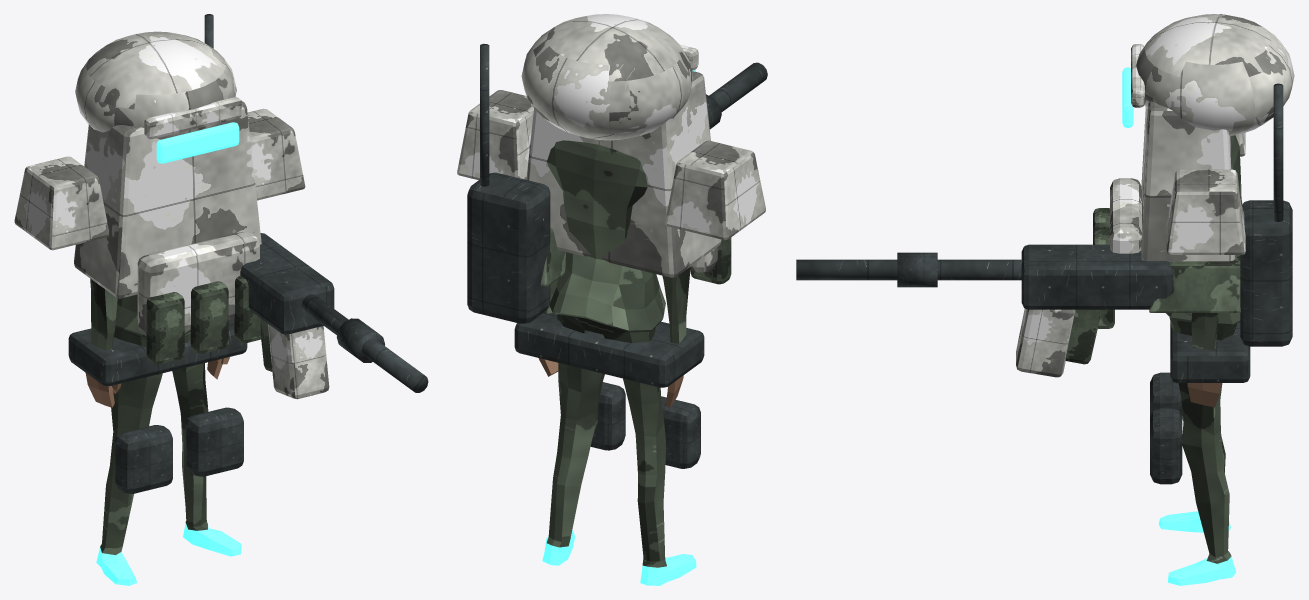
Rendered from soldier.glb.
3 views of the same model, side by side, from view 1: azimuth 30°, elevation 25°; view 2: azimuth 150°, elevation 25°; view 3: azimuth 270°, elevation 25° (orthographic). The views are drawn at different scales.
Visible parts, largest first — view 1: soldier_team_primary, soldier_armor_dark, BaseHuman_baked, soldier_team_accent, soldier_fabric_dark, soldier_glass_emissive; view 2: soldier_team_primary, BaseHuman_baked, soldier_armor_dark, soldier_fabric_dark, soldier_team_accent; view 3: soldier_armor_dark, soldier_team_primary, BaseHuman_baked, soldier_team_accent, soldier_fabric_dark.
Boxes of the visible parts, <box> form: soldier_team_primary: <box>14,31,305,298</box>; soldier_armor_dark: <box>68,14,428,493</box>; BaseHuman_baked: <box>85,278,241,585</box>; soldier_team_accent: <box>137,97,329,399</box>; soldier_fabric_dark: <box>146,275,272,371</box>; soldier_glass_emissive: <box>156,122,239,163</box>; soldier_team_primary: <box>457,14,765,277</box>; BaseHuman_baked: <box>538,140,696,585</box>; soldier_armor_dark: <box>467,43,767,468</box>; soldier_fabric_dark: <box>540,228,731,286</box>; soldier_team_accent: <box>680,44,717,272</box>; soldier_armor_dark: <box>796,83,1292,484</box>; soldier_team_primary: <box>1136,14,1294,262</box>; BaseHuman_baked: <box>1158,135,1241,585</box>; soldier_team_accent: <box>1016,44,1144,377</box>; soldier_fabric_dark: <box>1065,208,1240,364</box>.
Bounding box in the file's own units: 0.7574 × 1.45 × 1.24.
6 materials, 4 textured.
